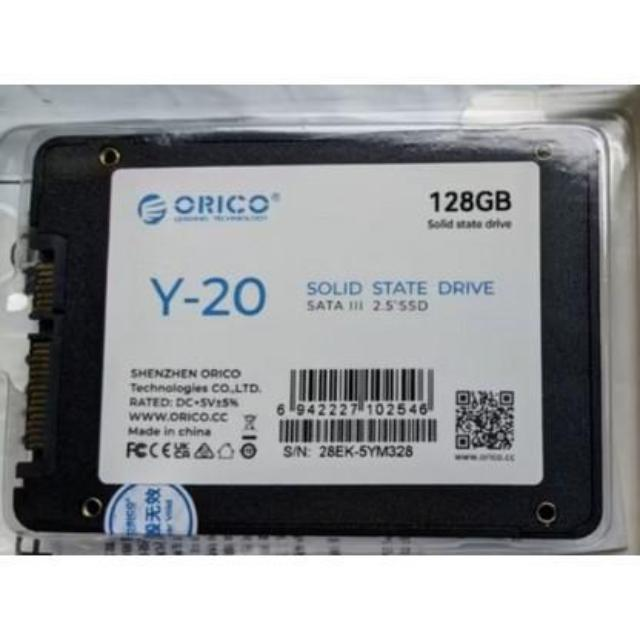DISK: (14, 129, 612, 546)
